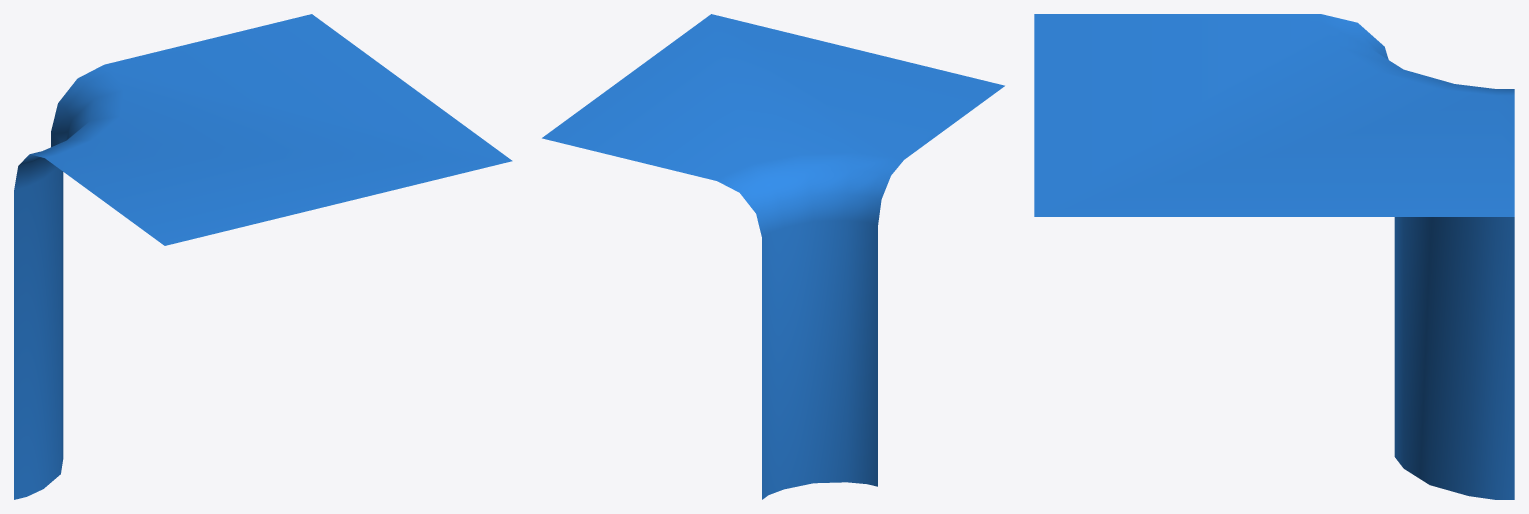
File: BaseBlock_InteriorCorner_Mesh.fbx
3 views of the same model, side by side, from view 1: azimuth 30°, elevation 25°; view 2: azimuth 150°, elevation 25°; view 3: azimuth 270°, elevation 25° (orthographic). The views are drawn at different scales.
Visible parts, largest first — view 1: BaseBlock_InteriorCorner; view 2: BaseBlock_InteriorCorner; view 3: BaseBlock_InteriorCorner.
Boxes of the visible parts, x1=… form: BaseBlock_InteriorCorner: x1=14, y1=14, x2=512, y2=499; BaseBlock_InteriorCorner: x1=542, y1=14, x2=1004, y2=499; BaseBlock_InteriorCorner: x1=1034, y1=14, x2=1514, y2=499.
Size of the model in its own units: 200 by 200 by 200.
